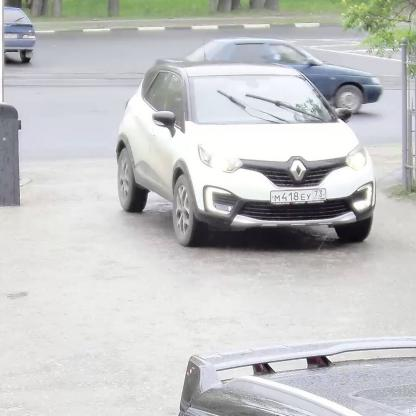plate: (270, 189, 326, 203)
